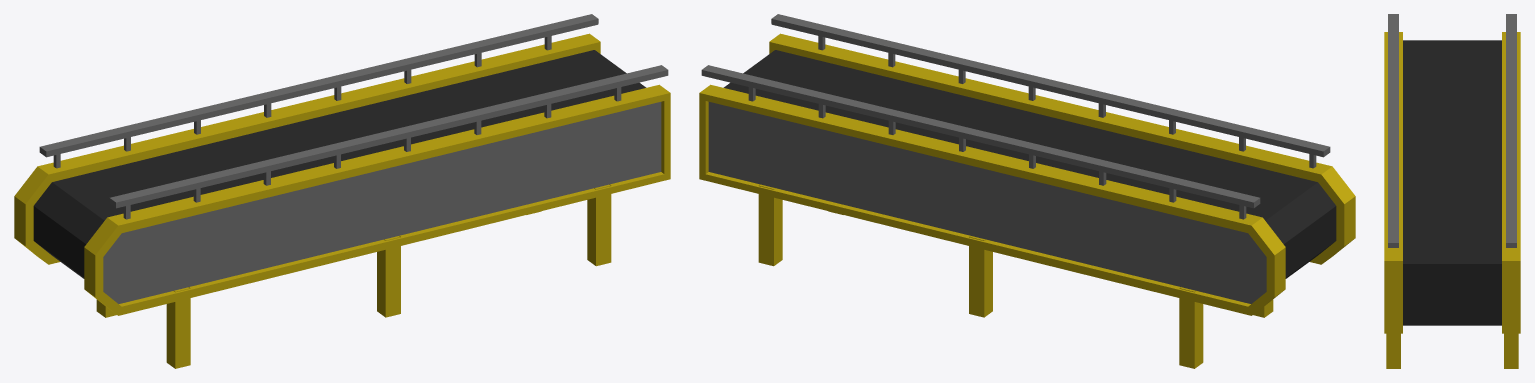
The model's file is conveyor.glb.
The picture shows the model from 3 angles, left to right: view 1: azimuth 30°, elevation 25°; view 2: azimuth 150°, elevation 25°; view 3: azimuth 270°, elevation 25°; orthographic projection. The views are drawn at different scales.
Visible parts, largest first — view 1: conveyor; view 2: conveyor; view 3: conveyor.
Boxes of the visible parts, box(x1,y1,x2,y2) form: conveyor: box(14, 14, 670, 368); conveyor: box(699, 14, 1355, 368); conveyor: box(1384, 14, 1520, 368).
Bounding box in the file's own units: 8.2 × 2.45 × 2.
